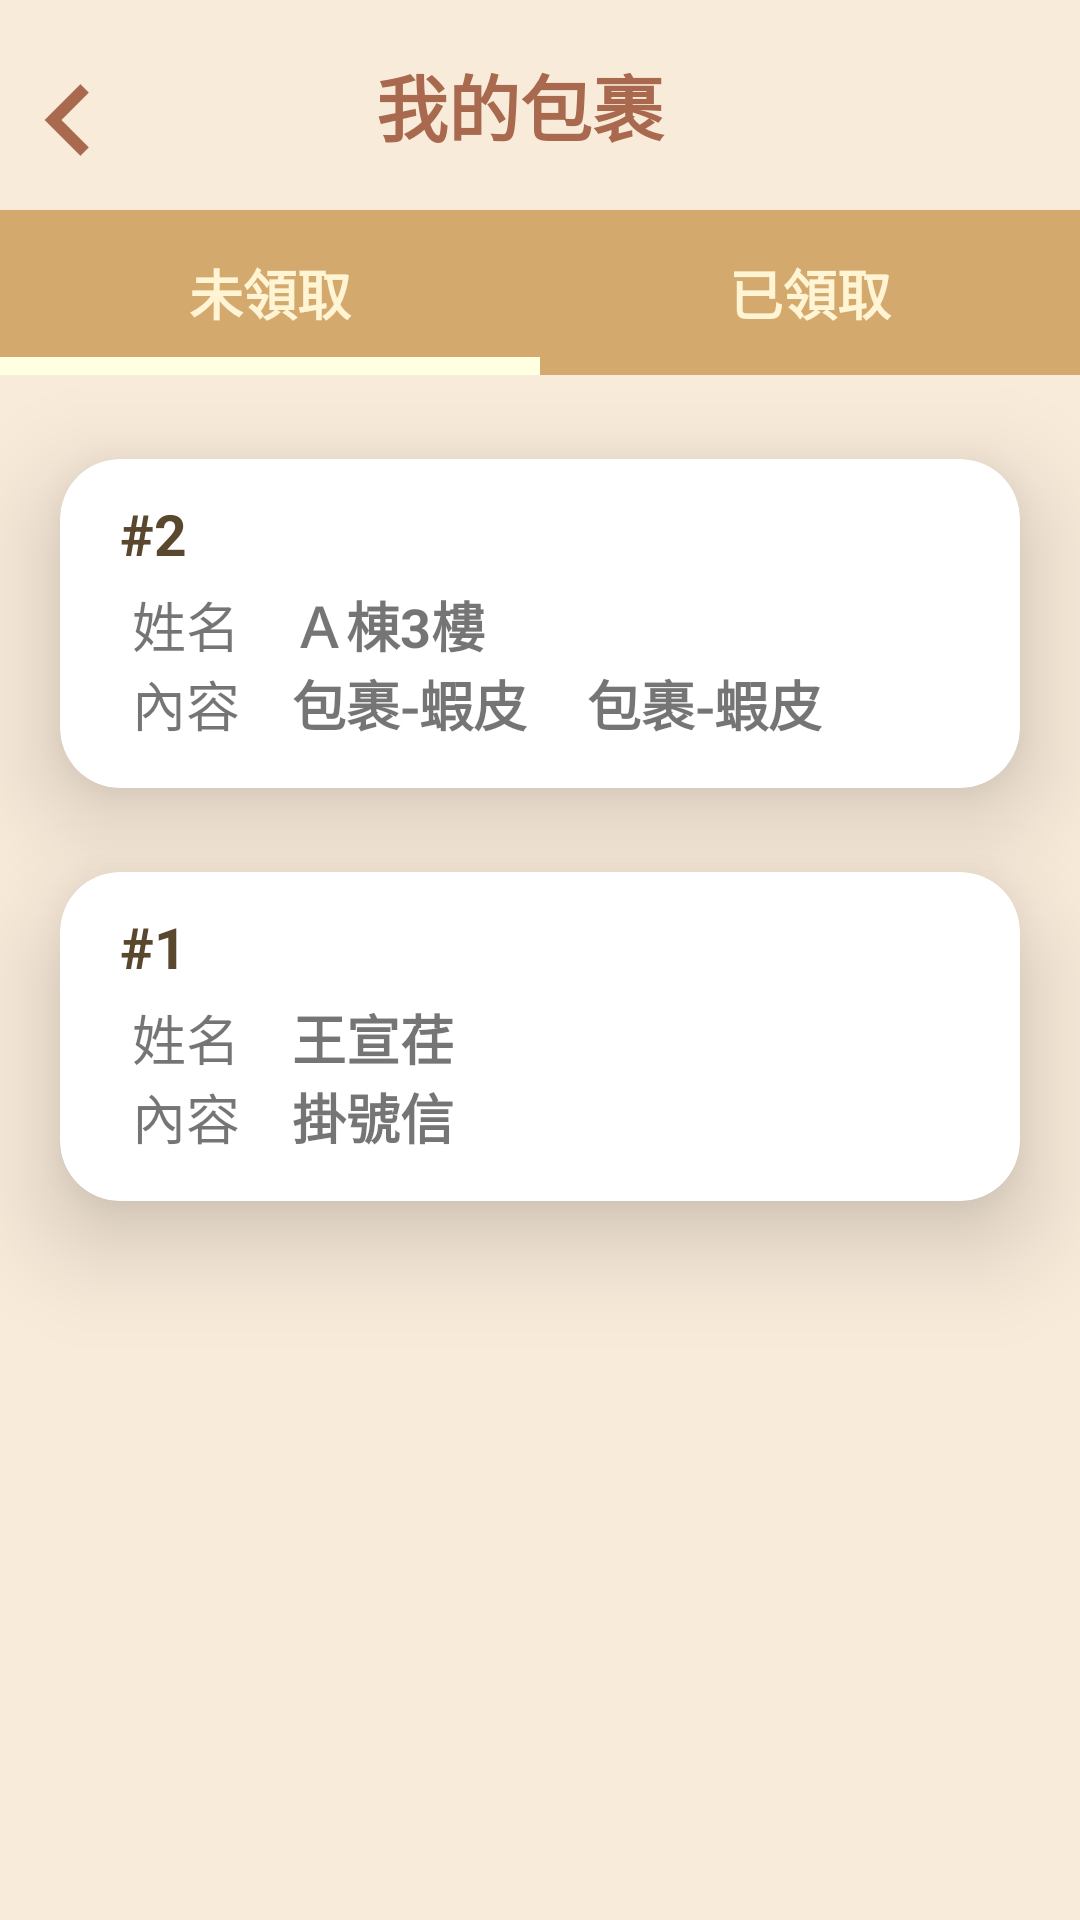

Icon click points for this 1080px×1920px phone screenshot, format (x=x, y=y):
previous page: (x=67, y=120)
